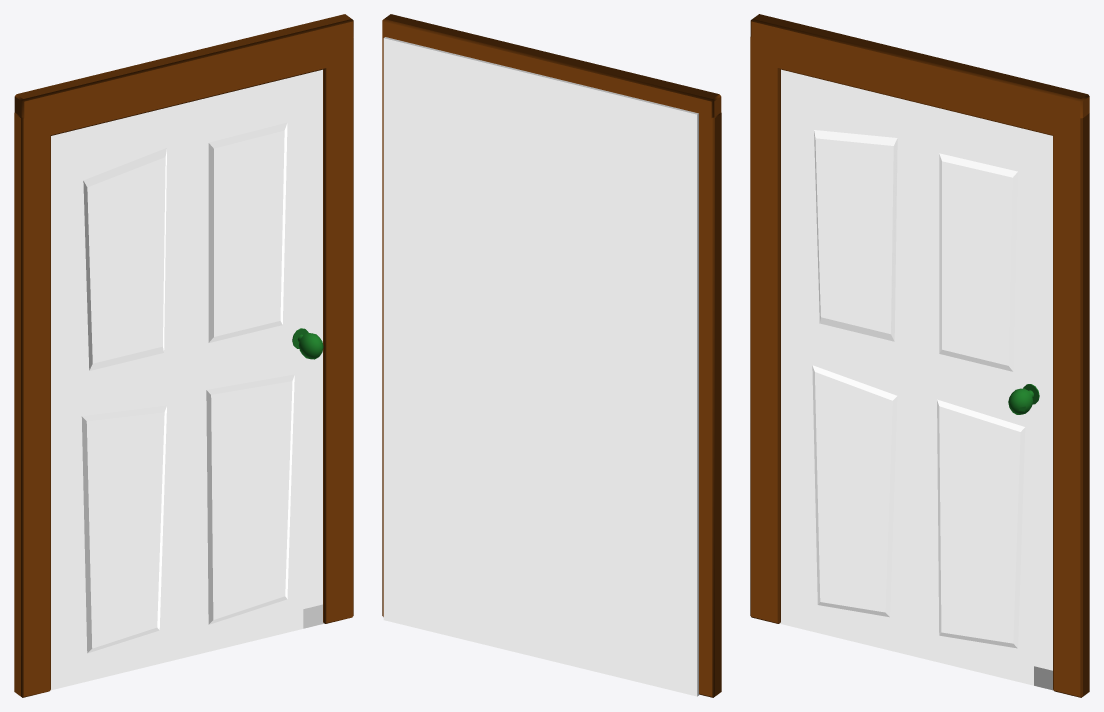
Rendered from meng.fbx.
The picture shows the model from 3 angles, left to right: view 1: azimuth 30°, elevation 25°; view 2: azimuth 150°, elevation 25°; view 3: azimuth 330°, elevation 25°; orthographic projection.
Visible parts, largest first — view 1: transform147; view 2: transform147; view 3: transform147.
Part boxes in pixels (x1,y1,x2,y2): transform147: (14,14,353,697); transform147: (382,14,721,697); transform147: (750,14,1089,697).
Bounding box in the file's own units: 169 × 291 × 23.29.
